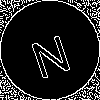N: (25, 25, 74, 80)
